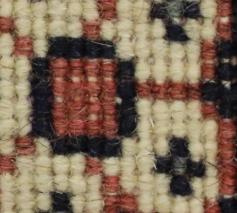Knot: (146, 39, 167, 57), (28, 99, 48, 117), (198, 84, 219, 101), (32, 175, 53, 192), (80, 41, 102, 57), (46, 57, 66, 74), (110, 45, 132, 60), (11, 18, 30, 35), (29, 121, 48, 138), (134, 157, 154, 173), (98, 142, 119, 157), (64, 20, 82, 37), (29, 20, 47, 37), (14, 138, 32, 155), (100, 159, 119, 175), (46, 41, 65, 57), (151, 179, 171, 194), (68, 138, 88, 153), (81, 198, 102, 212), (148, 20, 165, 37), (166, 24, 183, 41), (120, 138, 137, 155), (12, 57, 29, 74), (200, 121, 217, 138), (66, 175, 83, 192), (116, 62, 132, 80), (170, 179, 189, 194), (117, 121, 136, 136), (32, 140, 51, 155), (35, 194, 52, 210), (117, 196, 134, 212), (52, 157, 69, 173), (154, 196, 171, 212), (136, 196, 153, 212), (119, 157, 136, 173), (134, 99, 151, 115), (183, 68, 200, 84), (80, 4, 97, 20), (217, 66, 234, 82), (131, 66, 148, 82), (170, 142, 188, 157), (183, 41, 199, 57), (31, 39, 47, 55), (167, 68, 183, 84), (168, 101, 184, 117), (14, 37, 30, 53), (185, 122, 201, 138), (98, 4, 114, 20), (150, 68, 166, 84), (117, 84, 134, 99), (85, 175, 100, 192), (30, 57, 47, 72), (66, 121, 83, 136), (201, 177, 218, 192), (185, 101, 200, 117), (98, 24, 114, 39), (52, 140, 68, 155), (13, 80, 29, 95), (171, 198, 188, 212), (34, 155, 51, 169), (82, 24, 97, 39), (102, 121, 117, 136), (119, 179, 134, 194), (153, 140, 168, 155), (99, 86, 114, 101), (219, 181, 234, 196), (155, 157, 171, 171), (86, 157, 100, 173), (171, 159, 185, 175), (83, 62, 99, 76), (98, 62, 114, 76), (151, 101, 167, 115), (69, 155, 83, 171), (200, 64, 214, 80), (219, 198, 235, 212), (13, 97, 29, 111), (214, 103, 230, 117), (30, 86, 47, 99), (136, 171, 153, 184), (182, 26, 199, 39), (168, 43, 183, 57), (103, 179, 117, 194), (182, 2, 197, 16), (52, 175, 66, 190), (151, 4, 166, 18), (218, 148, 232, 163), (199, 47, 215, 60), (171, 122, 185, 136), (52, 192, 66, 206), (17, 121, 30, 136), (204, 148, 217, 163), (218, 126, 234, 138), (168, 86, 182, 99), (188, 161, 201, 175), (189, 198, 202, 212), (199, 26, 213, 39), (188, 148, 202, 161), (68, 59, 82, 72), (222, 165, 235, 179), (52, 122, 65, 136), (189, 177, 201, 192), (151, 84, 164, 97), (87, 122, 99, 136), (204, 165, 218, 177), (102, 103, 114, 117), (72, 88, 83, 103), (218, 24, 229, 39), (136, 84, 148, 97), (201, 103, 214, 115), (104, 194, 117, 206), (188, 86, 199, 99), (88, 91, 98, 103), (121, 99, 133, 109), (88, 103, 99, 113), (218, 55, 230, 64), (205, 204, 218, 212), (229, 26, 235, 39)
